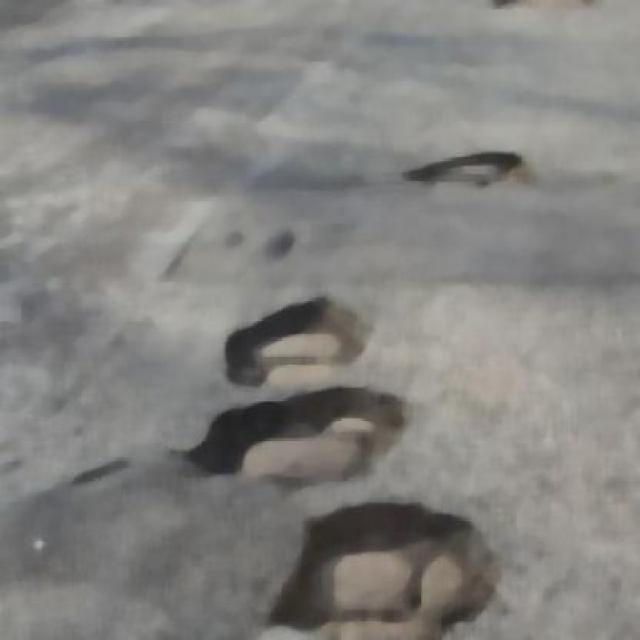Pothole: (208, 388, 438, 494), (300, 492, 462, 632), (198, 295, 370, 379), (420, 134, 560, 206), (494, 0, 600, 17)
